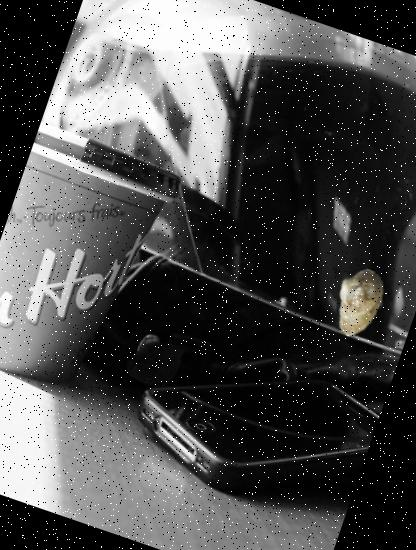Ginger: (314, 258, 404, 348)
